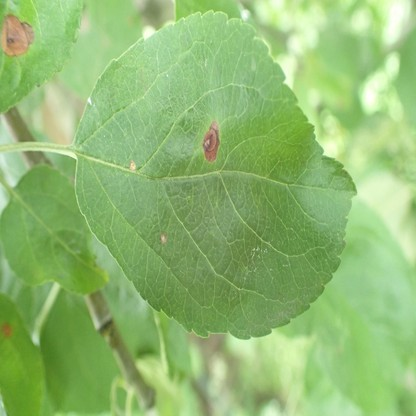frogeye_leaf_spot: (1, 15, 35, 57), (202, 118, 221, 163), (2, 324, 11, 336), (129, 160, 136, 171), (160, 234, 165, 243)
